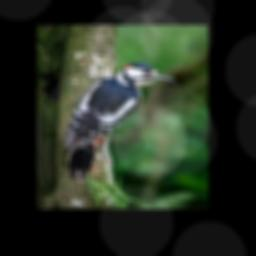Woodpecker: (62, 63, 176, 179)
